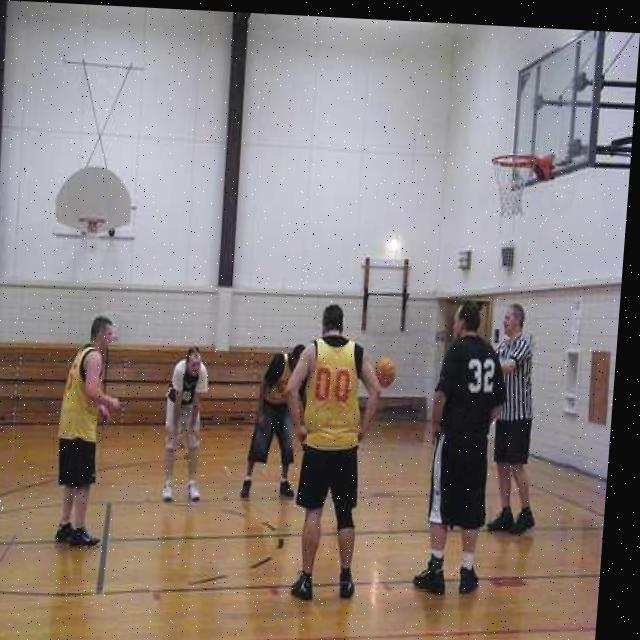basketball: (372, 354, 399, 389)
hoop: (486, 151, 540, 225), (75, 214, 109, 260)
